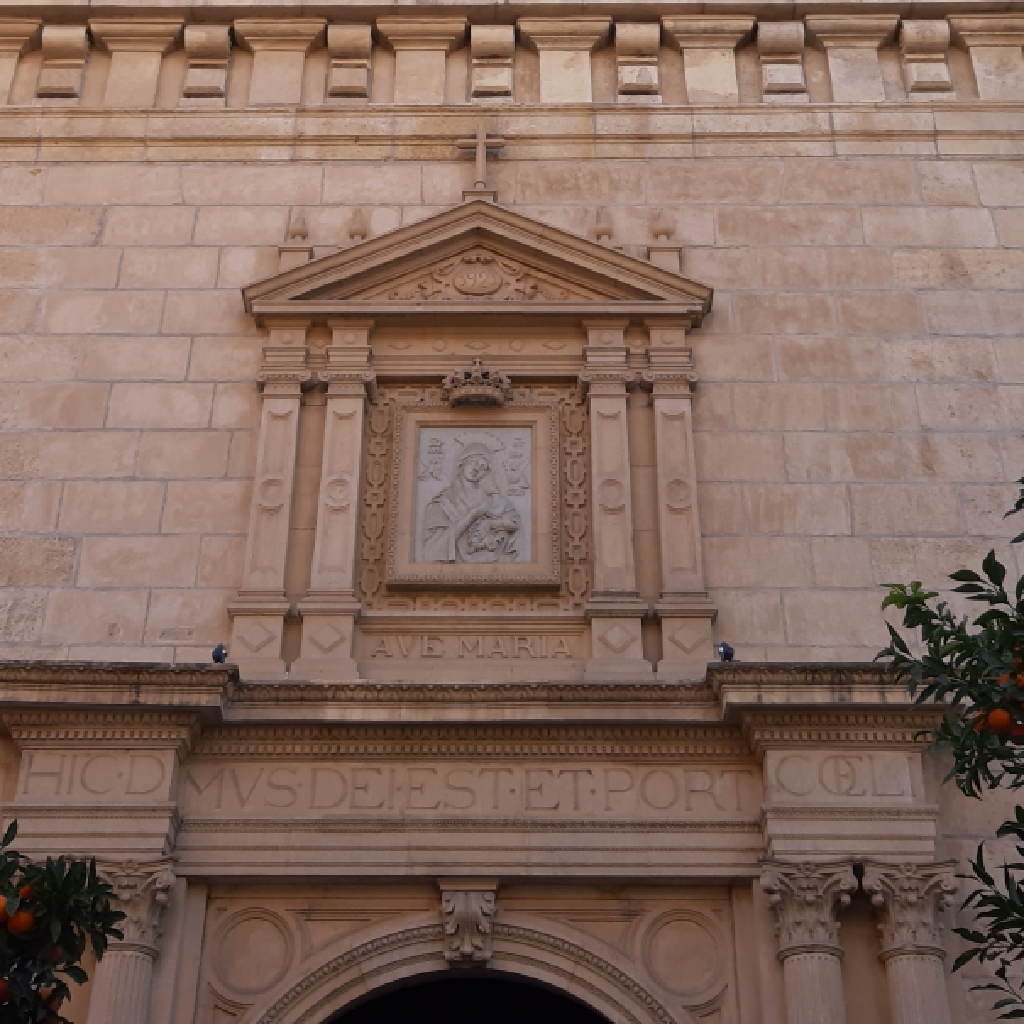fronton: (234, 196, 719, 333)
